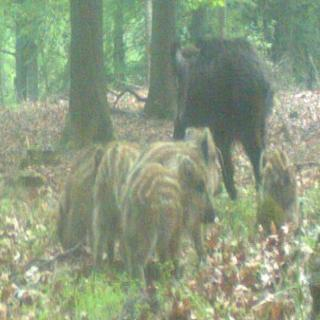Pig: (163, 25, 274, 169), (125, 174, 228, 281), (51, 136, 102, 255), (169, 128, 234, 203)
